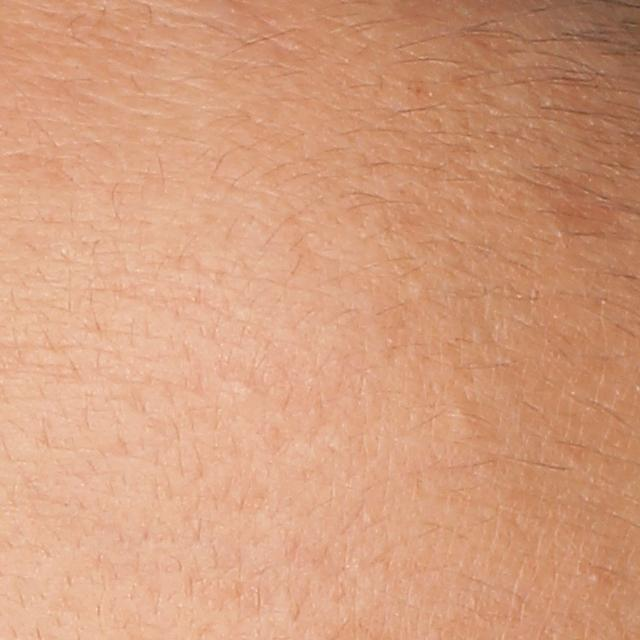comedo: (408, 278, 428, 302), (587, 569, 606, 587)
